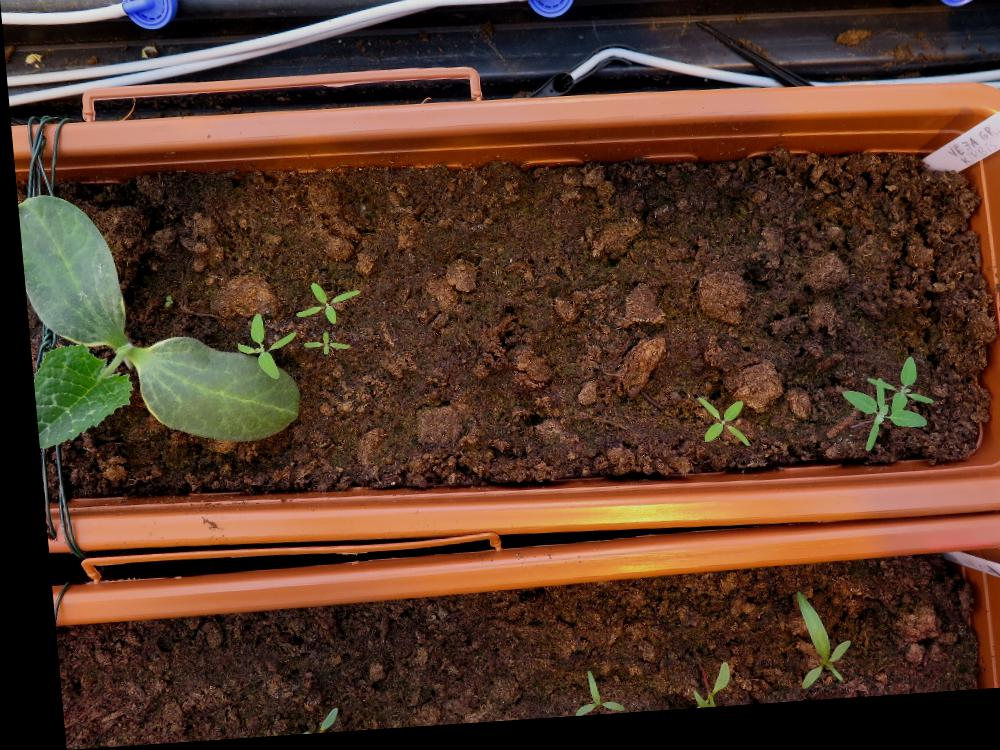weed: (779, 598, 841, 700), (285, 283, 357, 329), (687, 401, 741, 460), (293, 331, 344, 360)
